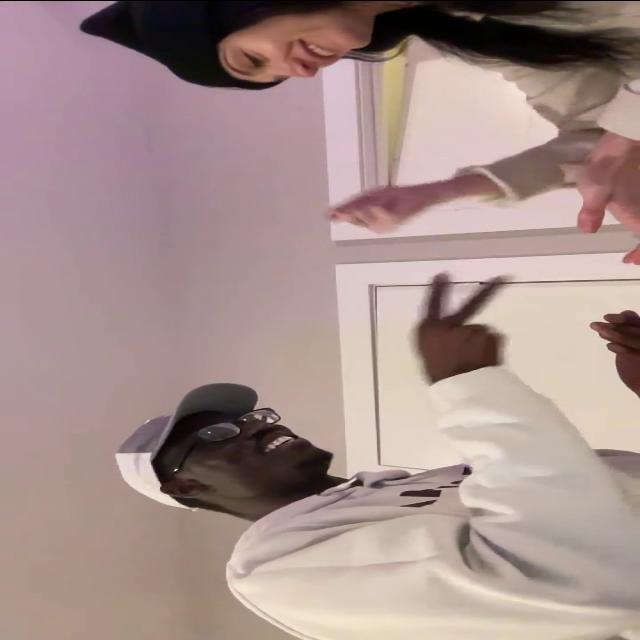Rock: (324, 184, 424, 234)
Scissors: (409, 272, 512, 374)
